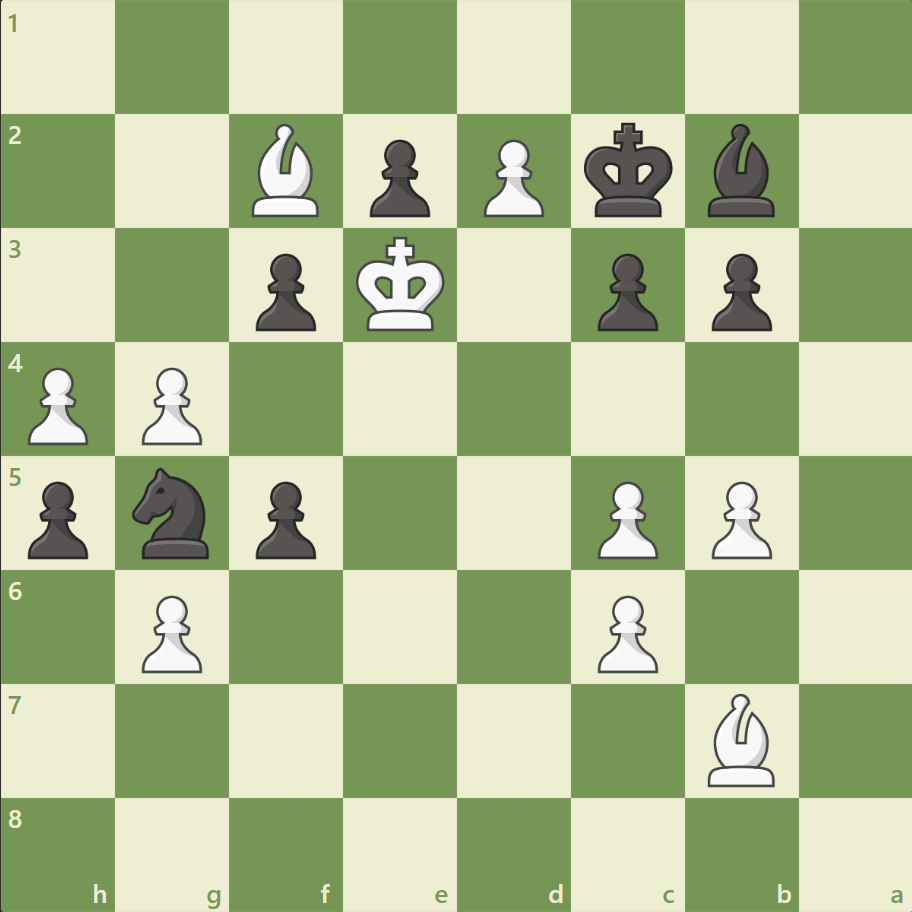B: (698, 687, 782, 790), (244, 120, 328, 222)
K: (351, 231, 451, 339)
P: (133, 586, 208, 677), (701, 473, 776, 564), (133, 359, 208, 450), (20, 359, 95, 450), (474, 132, 549, 223), (588, 586, 662, 677), (588, 473, 662, 564)
b: (698, 120, 782, 222)
k: (579, 117, 679, 225)
n: (124, 461, 222, 564)
p: (247, 473, 322, 564), (20, 473, 95, 564), (701, 246, 776, 337), (247, 246, 322, 337), (588, 246, 662, 337), (361, 132, 435, 223)
